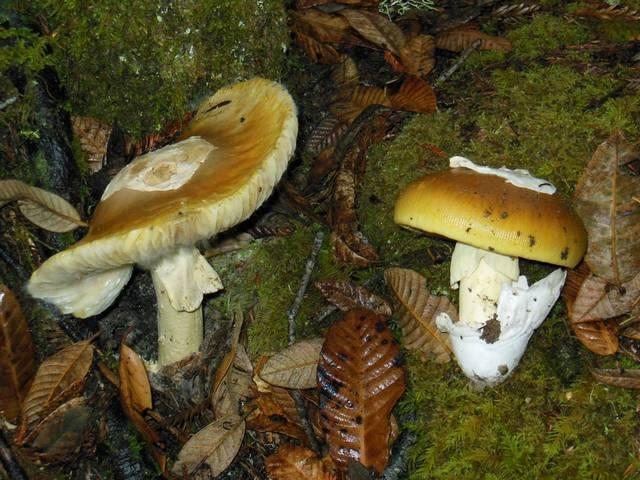edible_mushroom: (24, 75, 299, 371), (392, 154, 588, 389)
